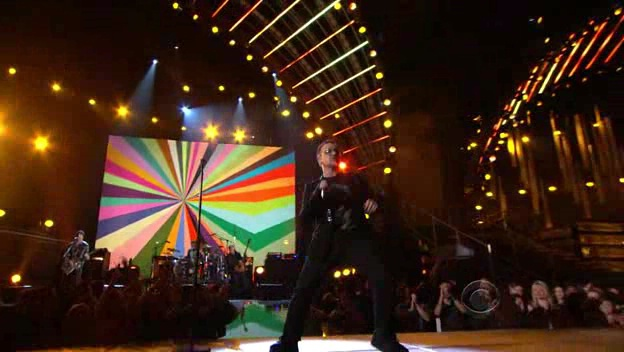person: (303, 145, 368, 264), (300, 145, 365, 264), (306, 145, 371, 264), (303, 142, 368, 261), (303, 148, 368, 267)
target_negative: (239, 72, 328, 293), (379, 184, 581, 248), (109, 192, 214, 264), (152, 217, 464, 234), (242, 212, 457, 226), (163, 318, 170, 323)
